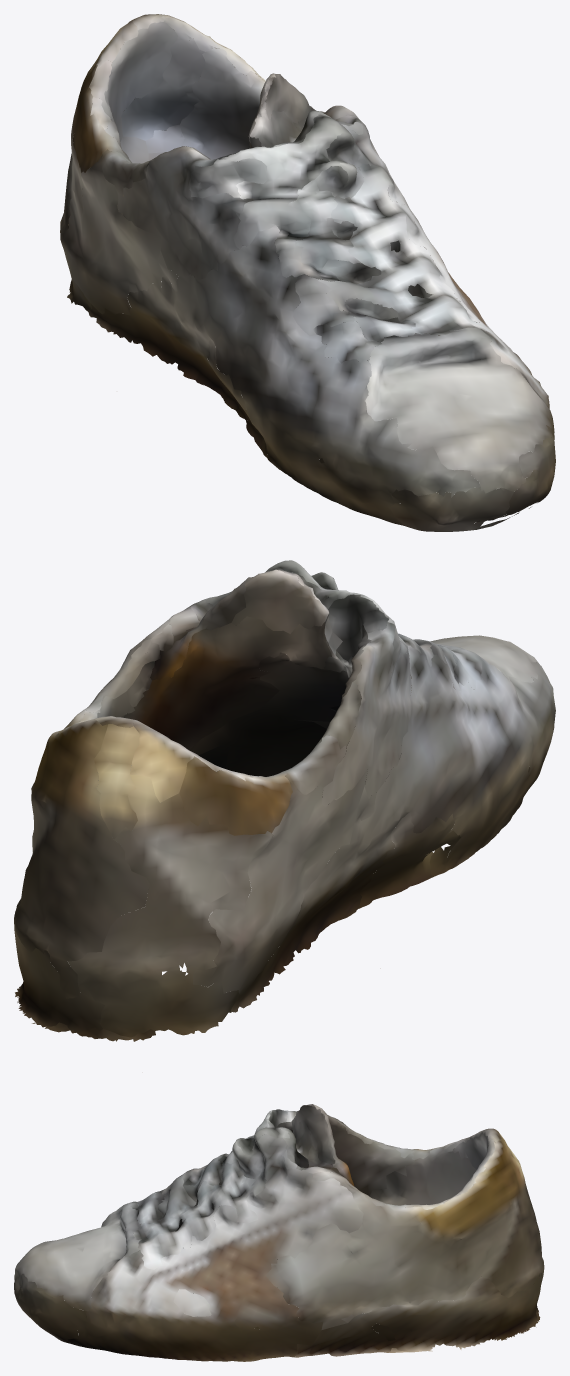
File: ggdb.glb
3 renders of one model, top to bottom at view 1: azimuth 30°, elevation 25°; view 2: azimuth 150°, elevation 25°; view 3: azimuth 270°, elevation 25°, orthographic. The views are drawn at different scales.
Parts seen in each view (by area): view 1: mesh.002; view 2: mesh.002; view 3: mesh.002.
Part boxes in pixels (x1,y1,x2,y2): mesh.002: (60,14,555,531); mesh.002: (14,560,555,1041); mesh.002: (14,1104,544,1361).
Bounding box in the file's own units: 0.1002 × 0.1053 × 0.2488.
Materials: 1 (1 with a texture image).
